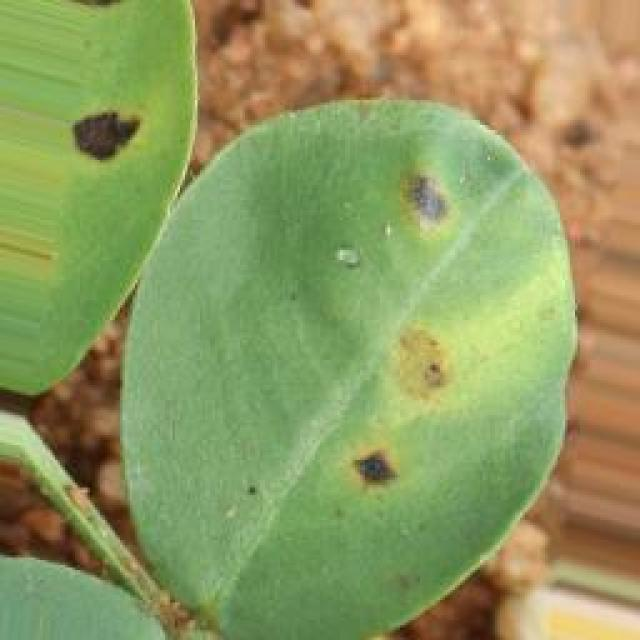Sigatoka: (358, 318, 491, 431), (40, 72, 167, 166), (372, 132, 468, 252), (328, 423, 397, 508)
